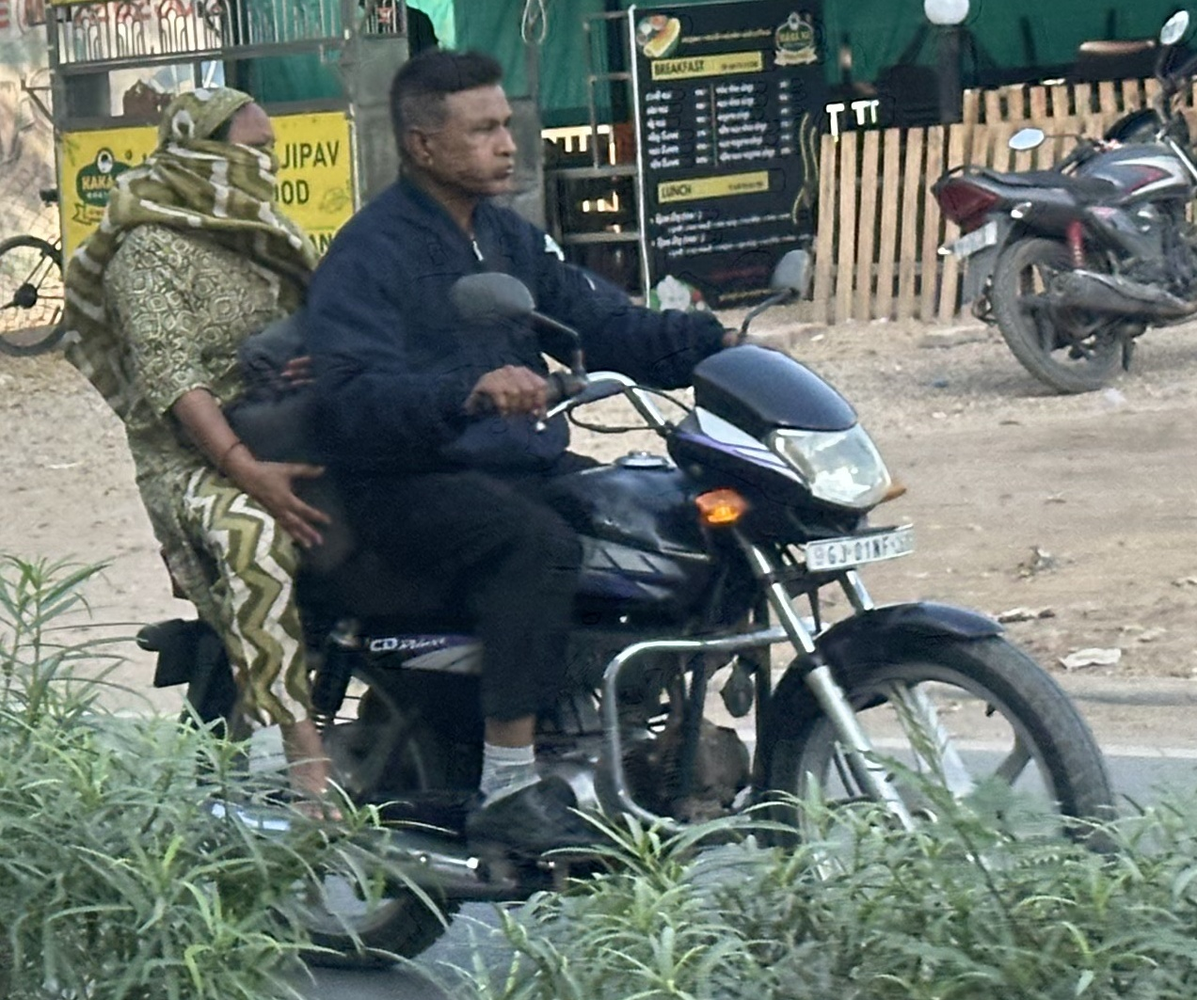BikeWithRider: (52, 28, 1139, 955)
NoHelmet: (376, 40, 538, 212), (141, 69, 282, 214)
